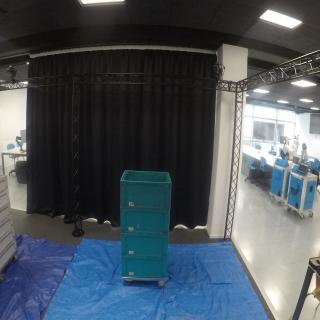BoxB4: (119, 169, 172, 211), (121, 209, 172, 241), (119, 233, 172, 262), (121, 256, 171, 281)
